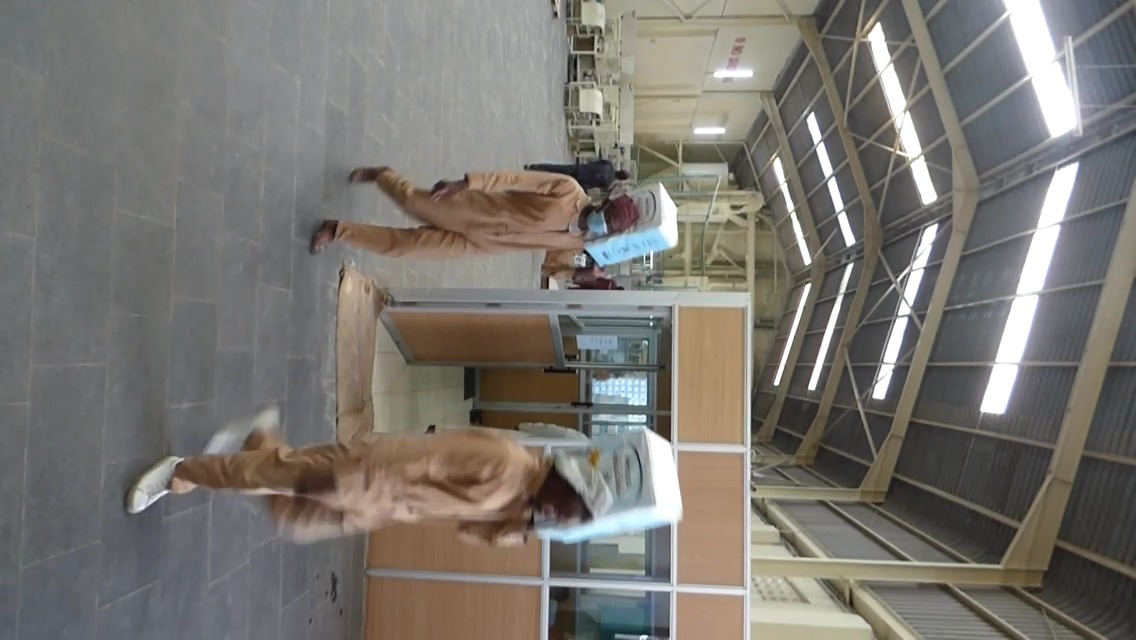wheat_flour_blue_label: (536, 431, 681, 542), (591, 184, 674, 263)
